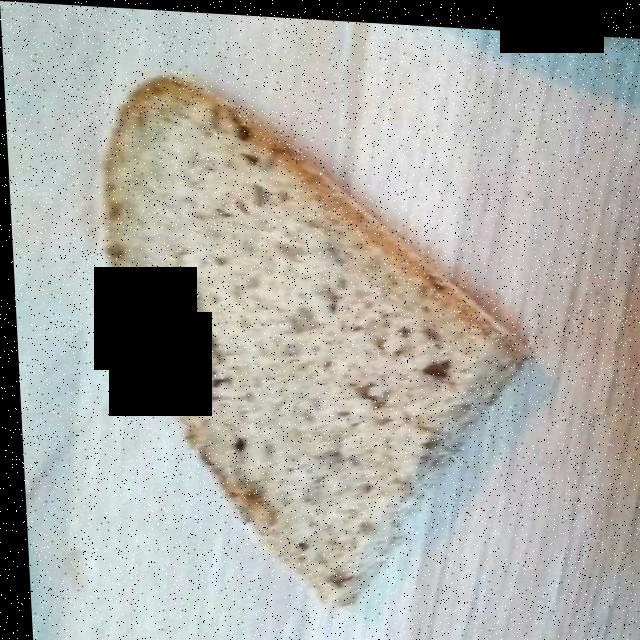bread-wholemeal: (101, 82, 514, 597)
